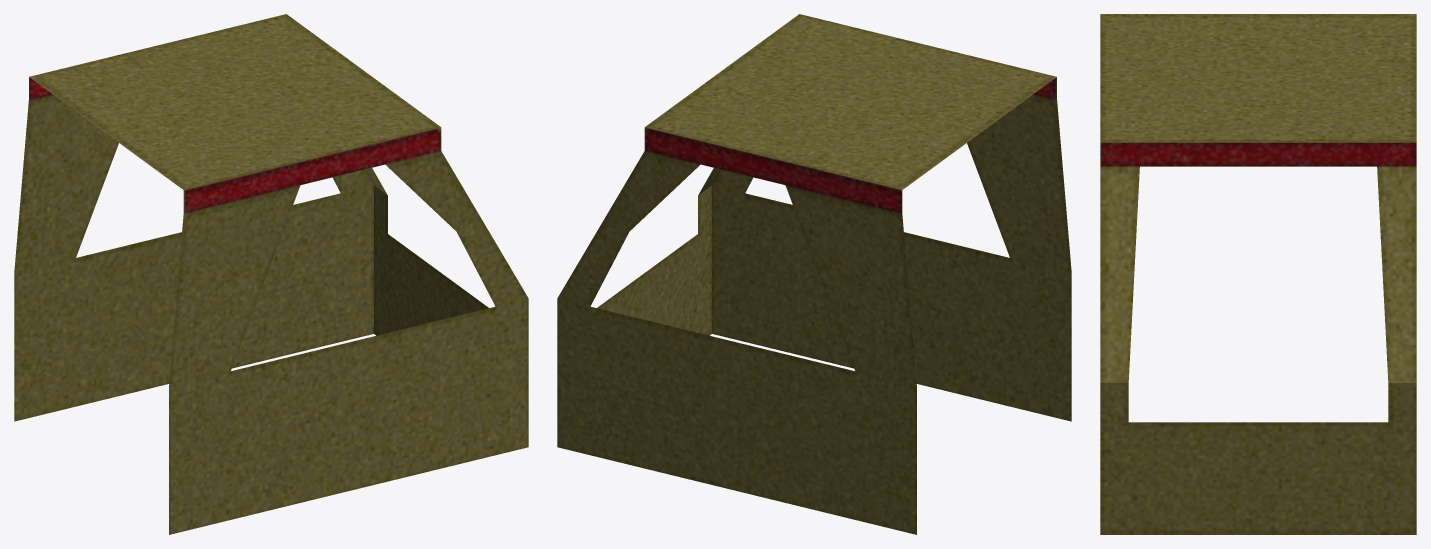
Rendered from mechcabin.fbx.
3 renders of one model, left to right at view 1: azimuth 30°, elevation 25°; view 2: azimuth 150°, elevation 25°; view 3: azimuth 270°, elevation 25°, orthographic. The views are drawn at different scales.
Visible parts, largest first — view 1: Cabin; view 2: Cabin; view 3: Cabin.
Part boxes in pixels (x1,y1,x2,y2): Cabin: (14, 14, 528, 534); Cabin: (557, 14, 1071, 534); Cabin: (1100, 14, 1416, 534).
Bounding box in the file's own units: 668 × 606 × 498.
